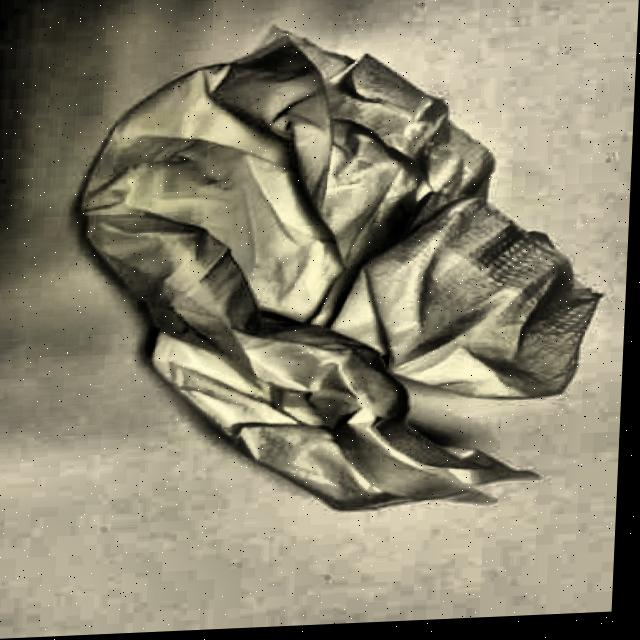paper: (38, 10, 618, 575)
